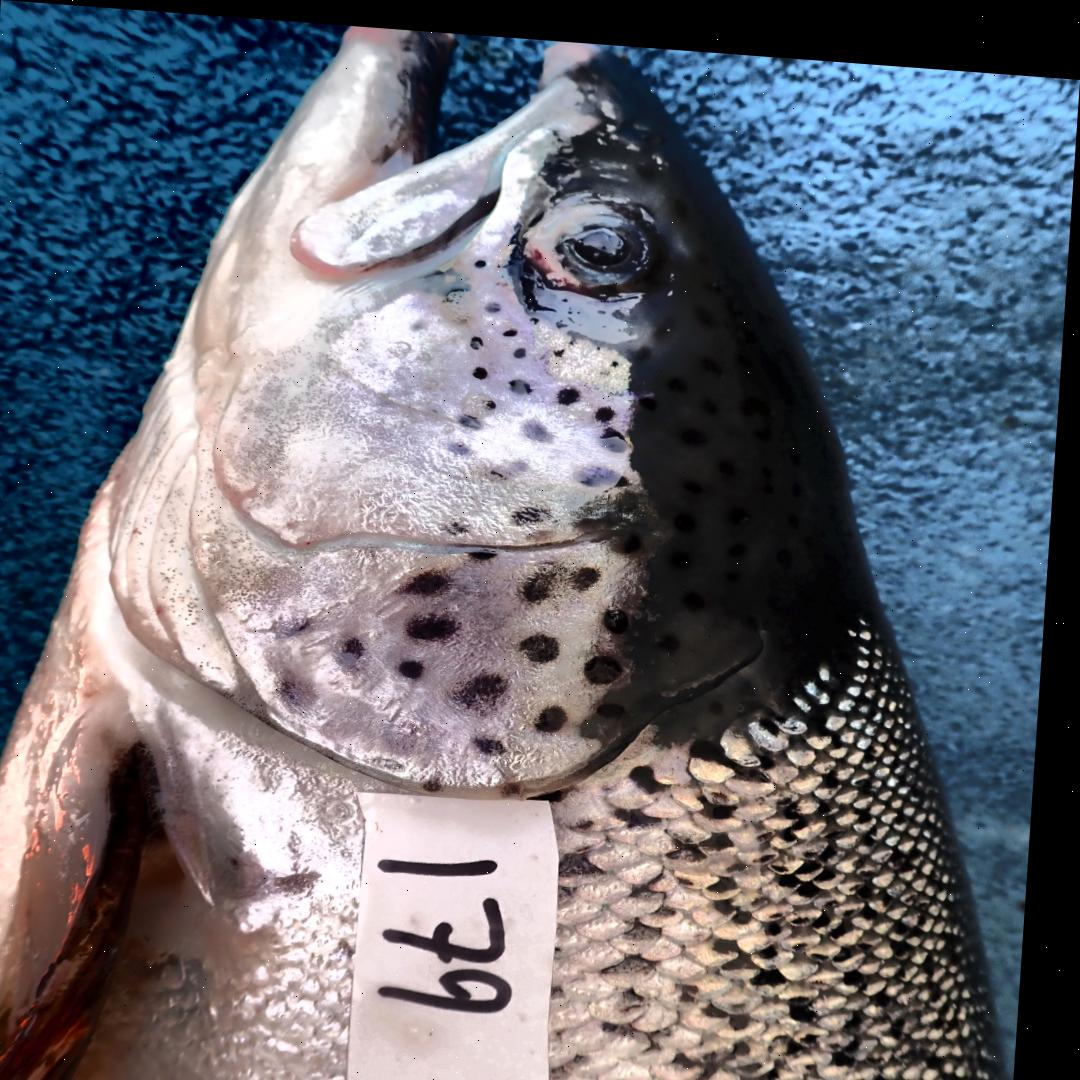spot: (528, 553, 606, 595), (461, 665, 515, 705), (414, 607, 465, 634), (528, 624, 567, 655), (592, 645, 631, 675), (585, 456, 634, 479), (410, 564, 455, 589), (285, 669, 317, 699), (542, 696, 575, 725), (344, 631, 374, 662), (494, 451, 531, 472), (610, 597, 637, 624), (517, 499, 556, 517), (606, 418, 632, 444), (528, 412, 557, 434), (286, 612, 319, 631), (484, 731, 514, 748), (605, 692, 634, 709), (406, 654, 433, 672), (473, 542, 504, 555), (562, 379, 583, 397), (629, 524, 648, 543), (513, 371, 535, 386), (450, 512, 472, 527), (463, 408, 486, 420), (600, 397, 618, 412), (433, 771, 452, 784), (476, 360, 493, 374), (513, 774, 530, 786), (453, 436, 473, 446), (485, 391, 501, 402), (473, 329, 485, 341), (486, 295, 502, 304), (517, 340, 529, 351), (505, 320, 520, 327), (477, 252, 488, 260)
